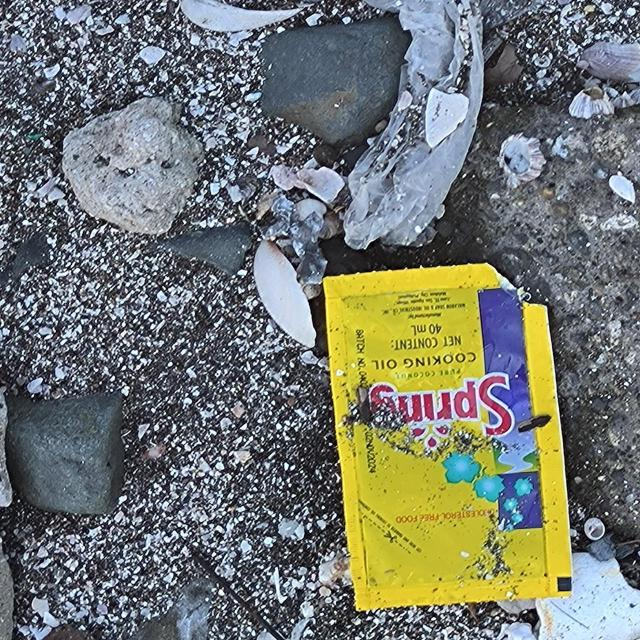plastic_waste: (322, 264, 572, 610)
